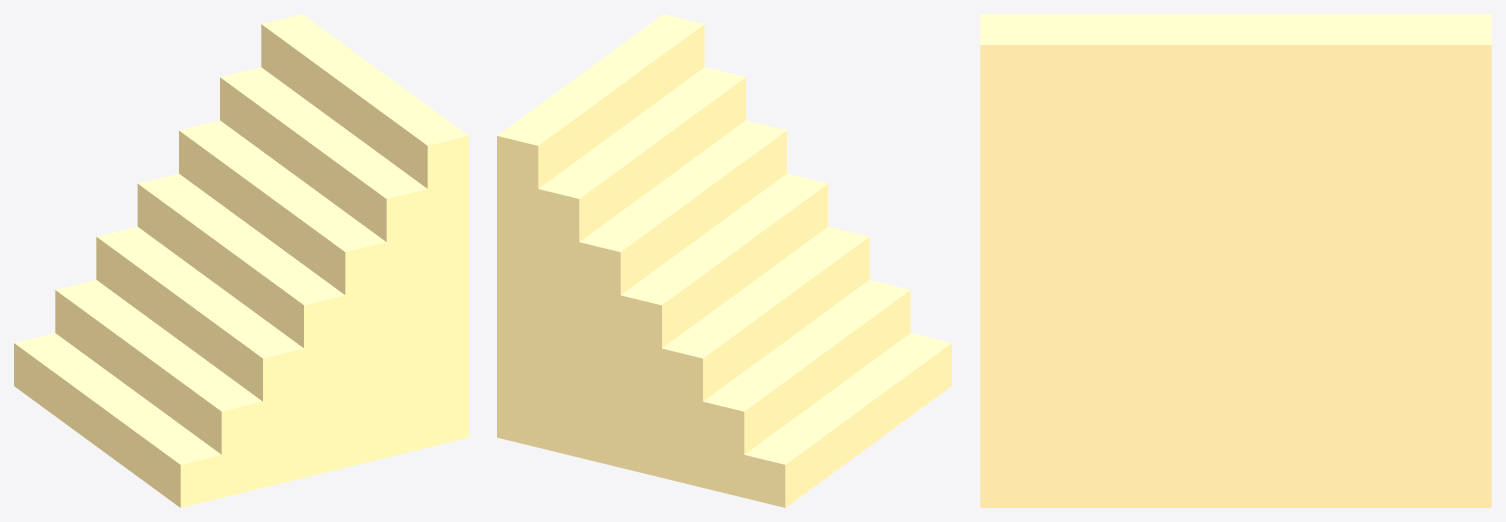
File: steps_large.glb
3 renders of one model, left to right at view 1: azimuth 30°, elevation 25°; view 2: azimuth 150°, elevation 25°; view 3: azimuth 270°, elevation 25°, orthographic. The views are drawn at different scales.
Visible parts, largest first — view 1: StepsLarge_Step6-convcol, StepsLarge_Step5-convcol, StepsLarge_Step4-convcol, StepsLarge_Step3-convcol, StepsLarge_Step2-convcol, StepsLarge_Step1-convcol, StepsLarge_Step0-convcol; view 2: StepsLarge_Step6-convcol, StepsLarge_Step5-convcol, StepsLarge_Step4-convcol, StepsLarge_Step3-convcol, StepsLarge_Step2-convcol, StepsLarge_Step1-convcol, StepsLarge_Step0-convcol; view 3: StepsLarge_Step6-convcol.
Part boxes in pixels (x1,y1,x2,y2): StepsLarge_Step6-convcol: (261, 14, 468, 447); StepsLarge_Step5-convcol: (220, 67, 427, 457); StepsLarge_Step4-convcol: (179, 120, 386, 467); StepsLarge_Step3-convcol: (137, 173, 345, 477); StepsLarge_Step2-convcol: (96, 226, 303, 487); StepsLarge_Step1-convcol: (55, 280, 262, 497); StepsLarge_Step0-convcol: (14, 333, 221, 507); StepsLarge_Step6-convcol: (497, 14, 704, 447); StepsLarge_Step5-convcol: (538, 67, 745, 457); StepsLarge_Step4-convcol: (579, 120, 786, 467); StepsLarge_Step3-convcol: (620, 173, 828, 477); StepsLarge_Step2-convcol: (662, 226, 869, 487); StepsLarge_Step1-convcol: (703, 280, 910, 497); StepsLarge_Step0-convcol: (744, 333, 951, 507); StepsLarge_Step6-convcol: (980, 14, 1491, 507).
Bounding box in the file's own units: 9.45 × 9.45 × 9.45.
